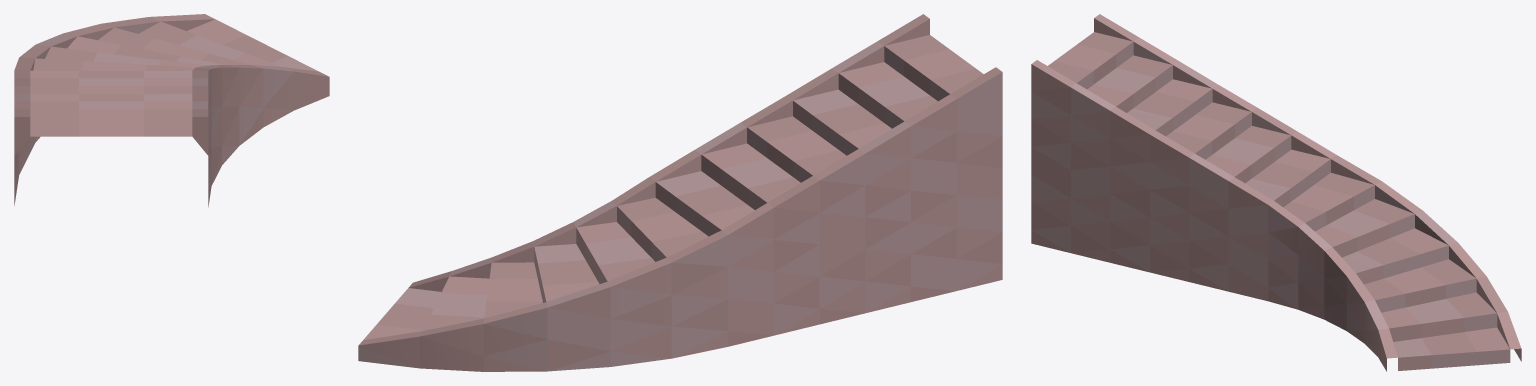
File: Map_CentralStairs02.fbx
3 views of the same model, side by side, from view 1: azimuth 30°, elevation 25°; view 2: azimuth 150°, elevation 25°; view 3: azimuth 270°, elevation 25° (orthographic). The views are drawn at different scales.
Parts seen in each view (by area): view 1: MSH_Path_Narrow_Medium336; view 2: MSH_Path_Narrow_Medium336; view 3: MSH_Path_Narrow_Medium336.
Boxes of the visible parts, left/top/right/bottom form: MSH_Path_Narrow_Medium336: left=14, top=14, right=329, bottom=207; MSH_Path_Narrow_Medium336: left=358, top=14, right=1002, bottom=371; MSH_Path_Narrow_Medium336: left=1031, top=14, right=1521, bottom=371.
Size of the model in its own units: 926 by 435 by 1076.
